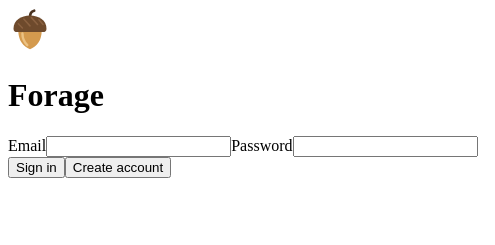
Scenario: popup › shows the auth error
Step 1. Type " me@example.com " into the field labelled "Email" → (139, 146), box [46,136,231,157]
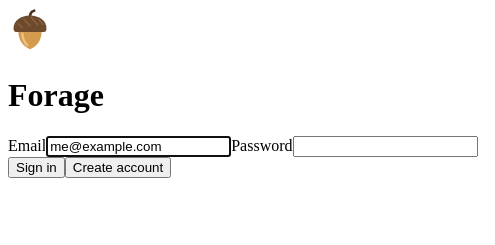
Step 2. Type "hunter22" into the password field labelled "Password" → (385, 146), box [293,136,478,157]
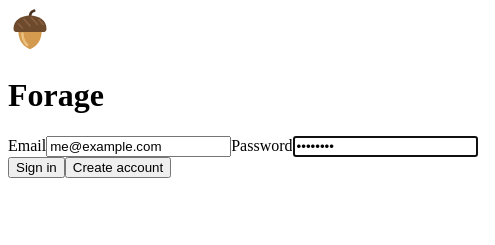
Step 3. Click the button "Sign in" → (36, 167), box [8,157,65,178]
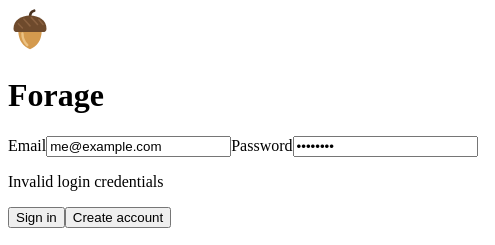
Expected: the message reads "Invalid login credentials", [8,173,164,190]
